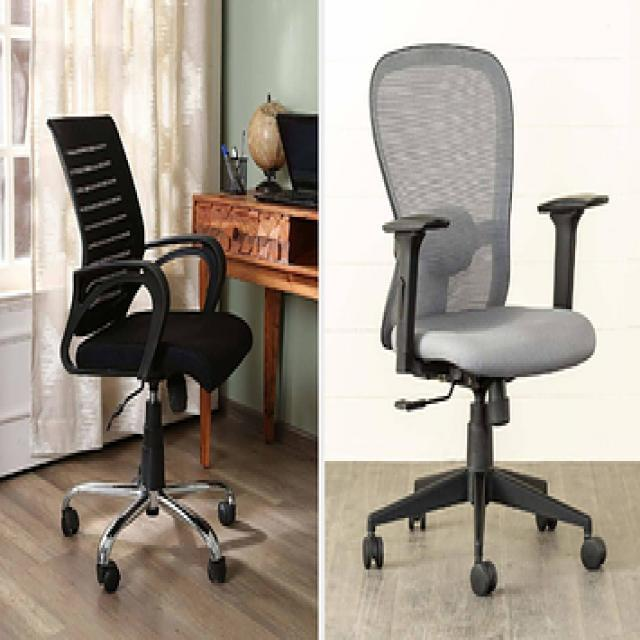chair: (46, 114, 250, 592)
